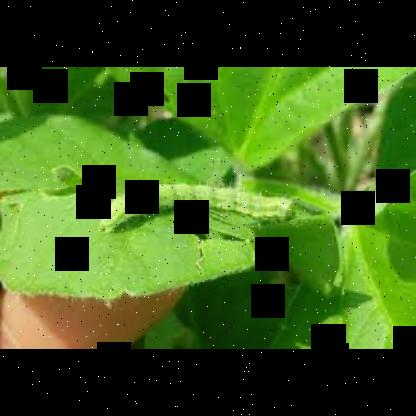agujero: (35, 162, 103, 204), (174, 214, 248, 249)
oruga: (94, 186, 296, 232)
